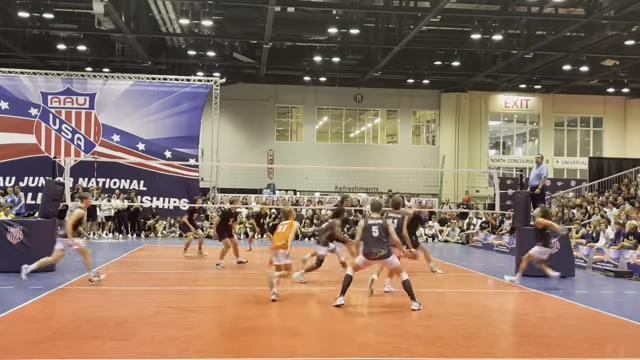Attack: (504, 206, 571, 289)
Player: (333, 199, 422, 310), (21, 192, 104, 283), (504, 207, 566, 283), (294, 207, 353, 282), (385, 196, 442, 273), (270, 208, 298, 301), (214, 199, 246, 268), (179, 197, 206, 256), (247, 208, 270, 250)
